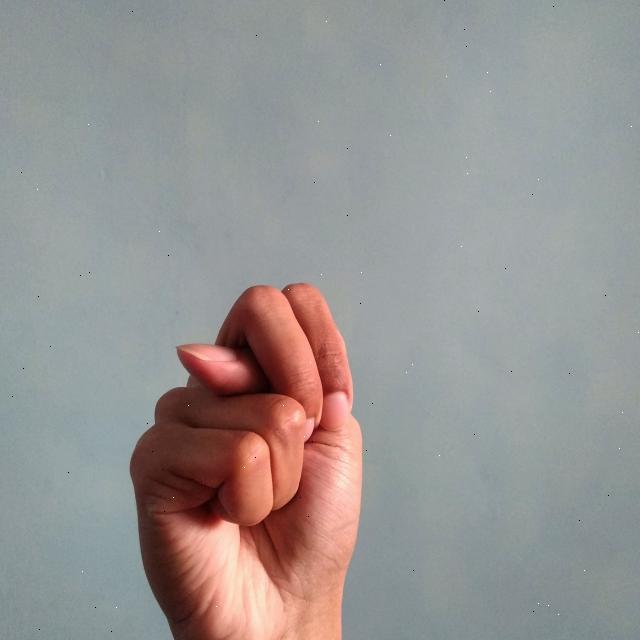N: (122, 275, 376, 640)
